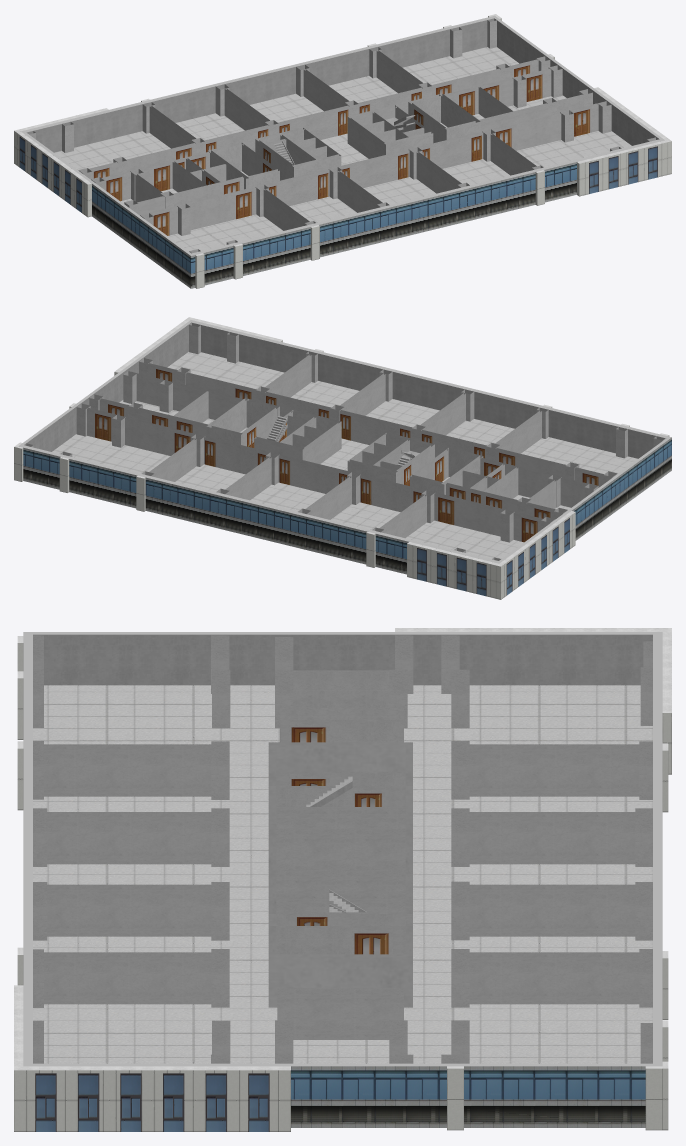
3 renders of one model, top to bottom at view 1: azimuth 30°, elevation 25°; view 2: azimuth 150°, elevation 25°; view 3: azimuth 270°, elevation 25°, orthographic. The views are drawn at different scales.
Visible parts, largest first — view 1: 4c; view 2: 4c; view 3: 4c.
Part boxes in pixels (x1,y1,x2,y2): 4c: (14, 14, 671, 288); 4c: (14, 317, 671, 599); 4c: (14, 628, 671, 1131).
Size of the model in its own units: 56.65 by 4.55 by 35.63.
12 materials, 10 textured.
